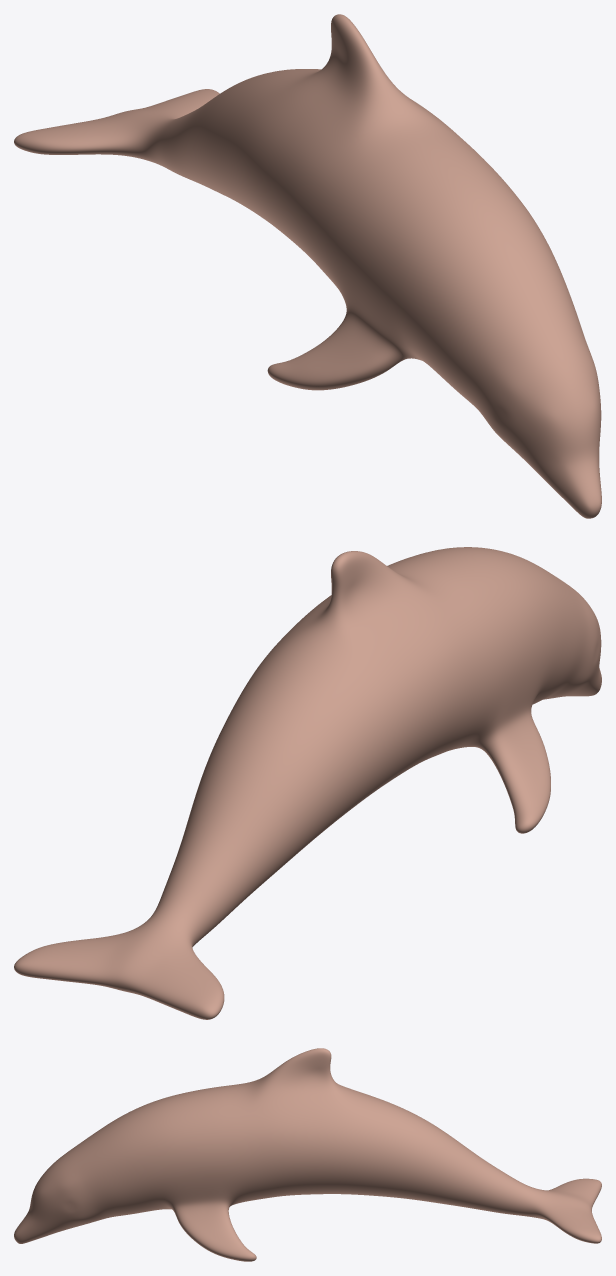
The model's file is highpoly.fbx.
3 renders of one model, top to bottom at view 1: azimuth 30°, elevation 25°; view 2: azimuth 150°, elevation 25°; view 3: azimuth 270°, elevation 25°, orthographic. The views are drawn at different scales.
Visible parts, largest first — view 1: Dolphin:dolphin; view 2: Dolphin:dolphin; view 3: Dolphin:dolphin.
Boxes of the visible parts, x1,y1,x2,y2 form: Dolphin:dolphin: (14,14,601,518); Dolphin:dolphin: (14,547,601,1019); Dolphin:dolphin: (14,1048,601,1261).
Size of the model in its own units: 128 by 148 by 406.
